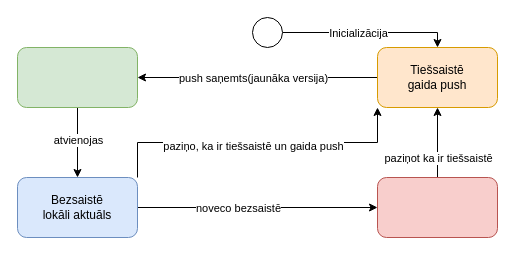
The diagram is 515 pixels wide and 255 high, and some of its shapes have lost their labels. The shapes that lost their labels are listed below. From the top down, each one's centre as x and y in pixels, then its label:
At (x=77, y=77): "Tiešsaistē lokāli aktuāls".
At (x=437, y=207): "Bezsaistē lokāli novecojis".
